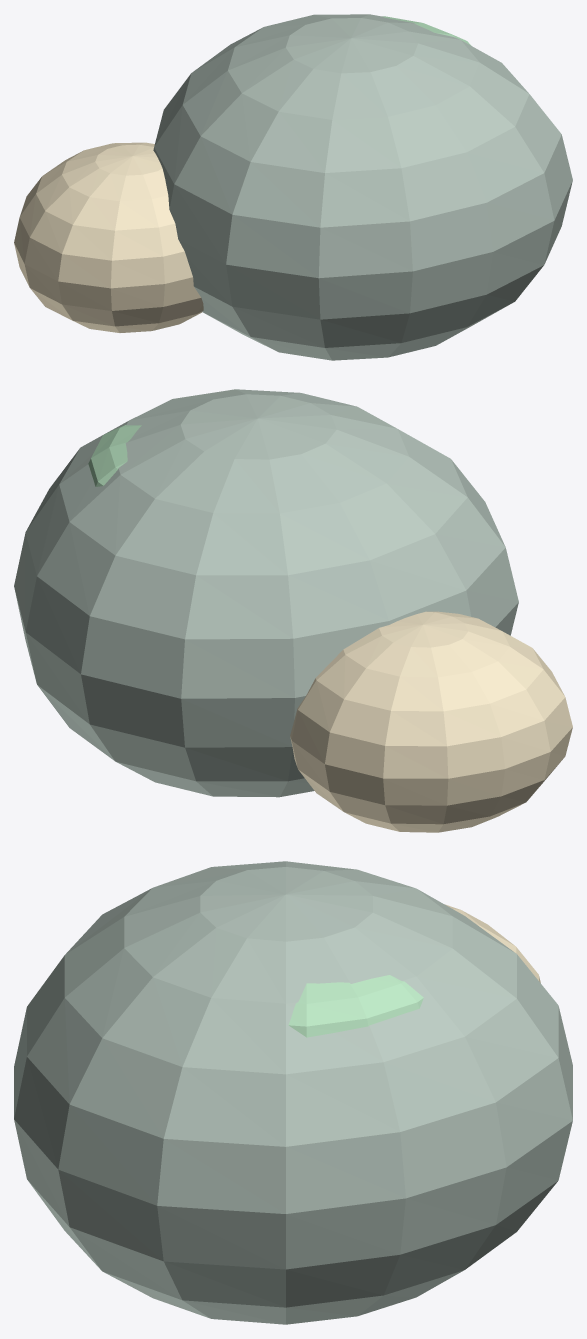
Rendered from Soft_cliff_pebbles.obj.
3 views of the same model, one above another, from view 1: azimuth 30°, elevation 25°; view 2: azimuth 150°, elevation 25°; view 3: azimuth 270°, elevation 25° (orthographic). The views are drawn at different scales.
Visible parts, largest first — view 1: Large_stone, Small_stone; view 2: Large_stone, Small_stone, Moss; view 3: Large_stone, Moss, Small_stone.
Boxes of the visible parts, x1=… form: Large_stone: x1=153, y1=14, x2=572, y2=360; Small_stone: x1=14, y1=142, x2=203, y2=332; Large_stone: x1=14, y1=389, x2=518, y2=797; Small_stone: x1=290, y1=611, x2=572, y2=832; Moss: x1=88, y1=425, x2=141, y2=486; Large_stone: x1=14, y1=861, x2=572, y2=1324; Moss: x1=288, y1=975, x2=423, y2=1037; Small_stone: x1=444, y1=904, x2=540, y2=982.
Size of the model in its own units: 1.4 by 0.84 by 1.07.
